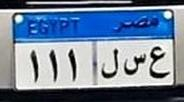1: (64, 47, 80, 82), (46, 47, 60, 83), (28, 47, 42, 83)
ain: (149, 45, 170, 81)
laam: (99, 44, 120, 80)
seen: (123, 52, 147, 78)
